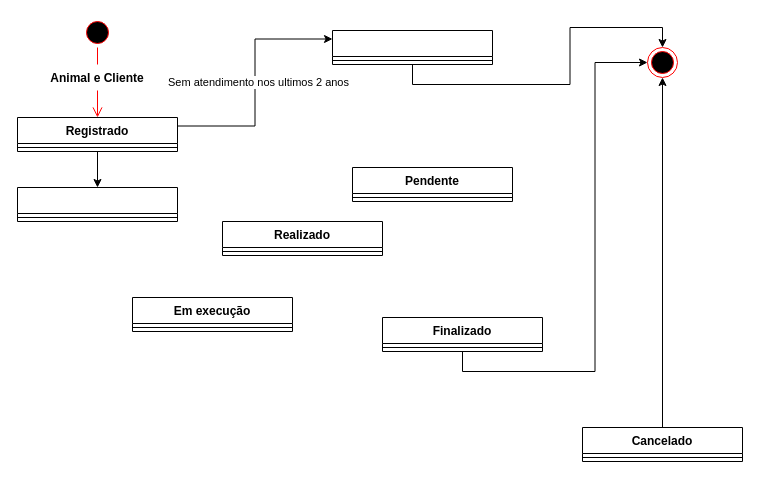
This 760x479 diagram has some shape labels left out. Each missing label, with the centre of its shape:
Ativo: pixel 97 204
Inativo: pixel 412 47
